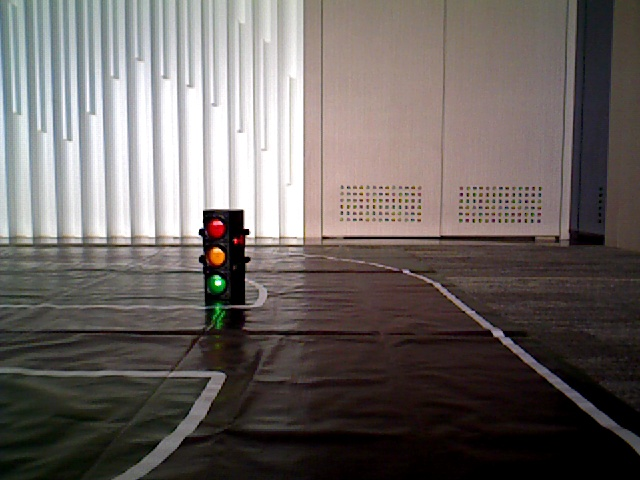green: (203, 215, 227, 291)
